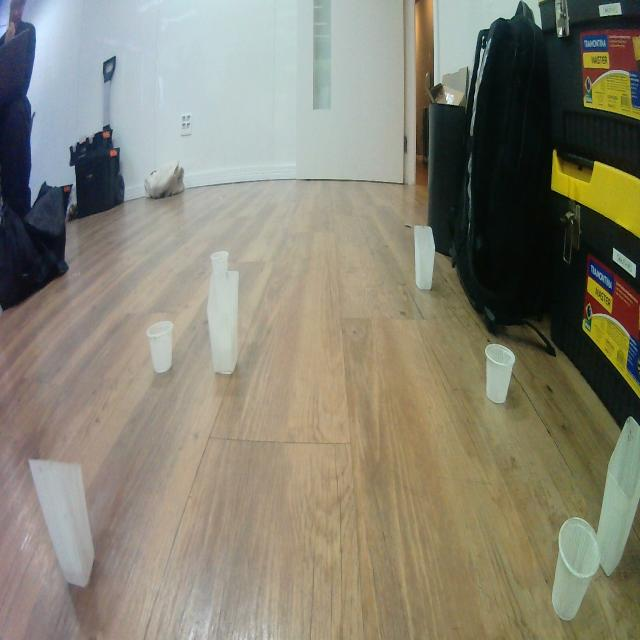erva_daninha: (28, 457, 95, 588), (596, 416, 640, 578), (207, 269, 239, 375), (413, 225, 436, 291)
planta: (551, 516, 601, 622), (484, 343, 516, 404), (146, 320, 174, 374), (211, 250, 229, 272)
